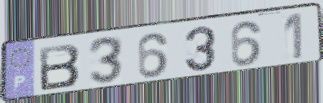1: (280, 11, 304, 63)
3: (88, 35, 125, 87), (182, 25, 218, 73)
6: (136, 30, 170, 80), (229, 19, 263, 69)
B: (37, 42, 83, 93)
